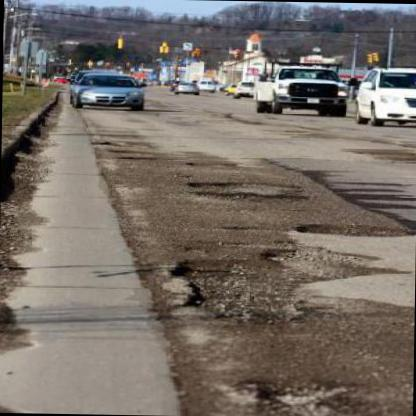pothole: (165, 255, 302, 327), (242, 376, 357, 412), (260, 246, 362, 280), (288, 221, 414, 240), (187, 188, 309, 207), (185, 179, 299, 187), (181, 160, 238, 169)
